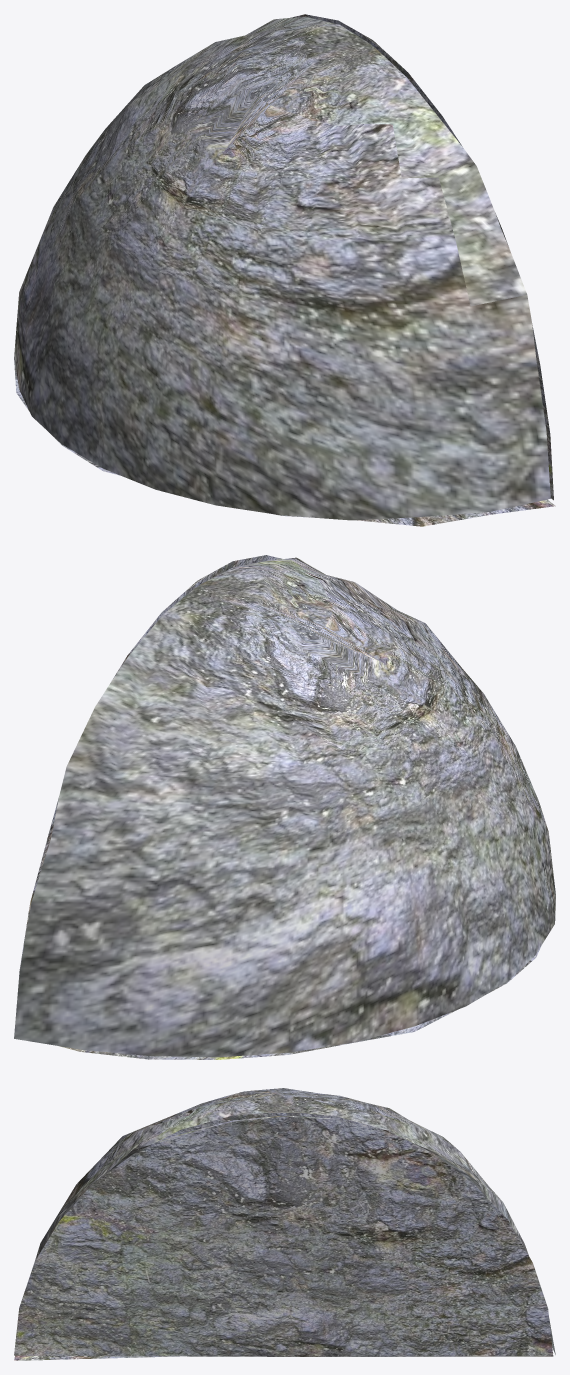
File: RockSemiCircle.fbx
The picture shows the model from 3 angles, top to bottom: view 1: azimuth 30°, elevation 25°; view 2: azimuth 150°, elevation 25°; view 3: azimuth 270°, elevation 25°; orthographic projection. The views are drawn at different scales.
Parts seen in each view (by area): view 1: Circle; view 2: Circle; view 3: Circle.
Part boxes in pixels (x1,y1,x2,y2): Circle: [14, 14, 555, 526]; Circle: [14, 555, 555, 1059]; Circle: [14, 1088, 555, 1360].
Bounding box in the file's own units: 3.01 × 3.07 × 6.03.
